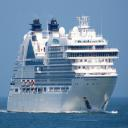cruises: (6, 14, 121, 117)
